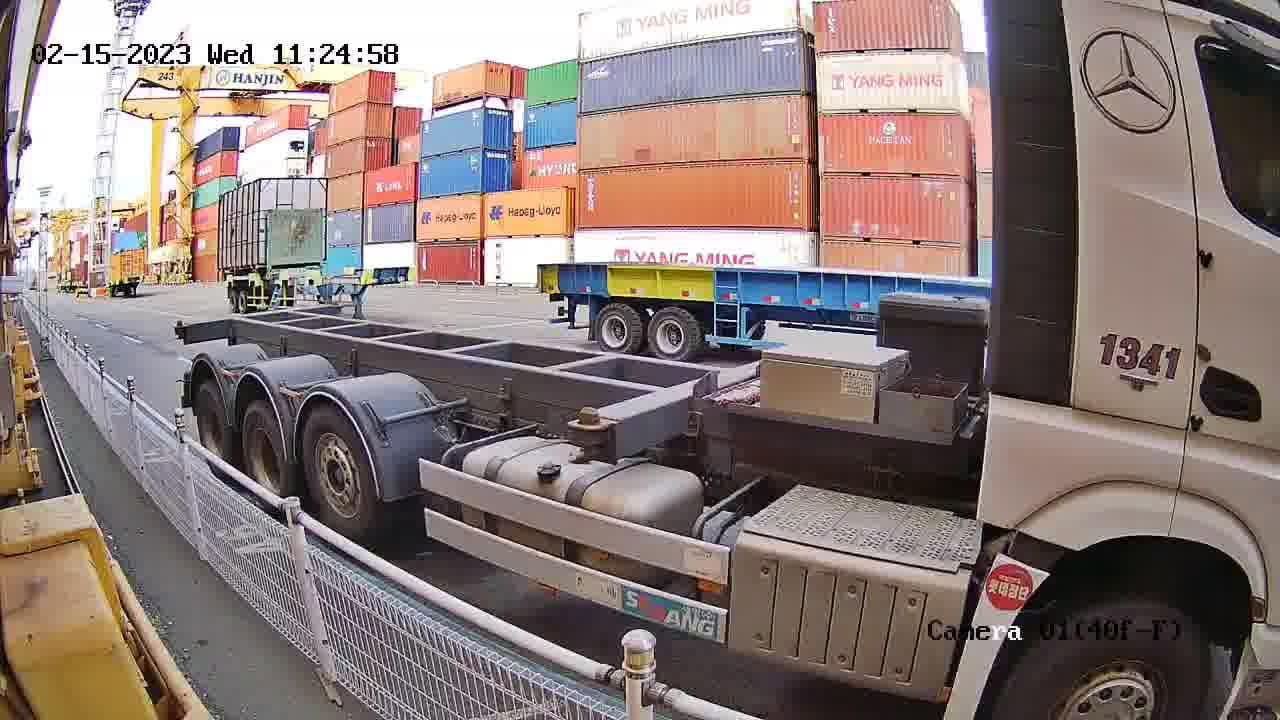Chassis: (599, 354, 763, 460)
Cone: (562, 405, 615, 463)
Tire: (992, 603, 1212, 719), (297, 410, 369, 524), (244, 407, 287, 493), (192, 388, 226, 465)
